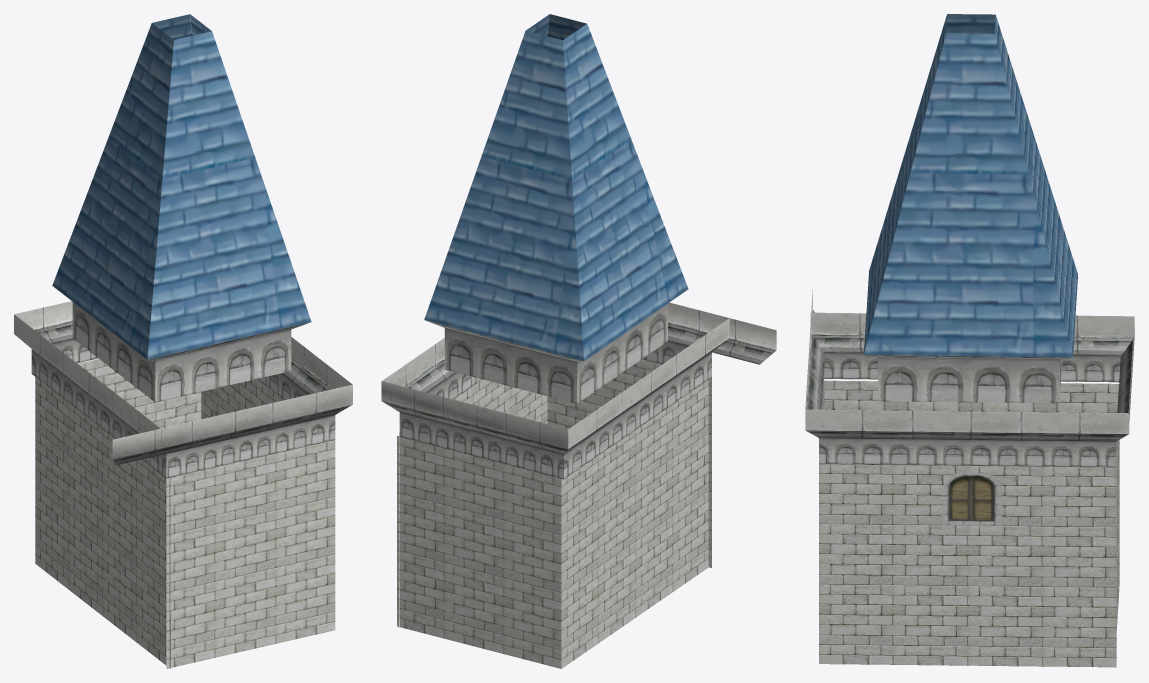
Rendered from HyruleCastle_MidTower.obj.
3 renders of one model, left to right at view 1: azimuth 30°, elevation 25°; view 2: azimuth 150°, elevation 25°; view 3: azimuth 270°, elevation 25°, orthographic. The views are drawn at different scales.
Visible parts, largest first — view 1: Tower_1_Base.001_naka_siro_01_45680.001, Tower_Cones.001_naka_yane_01_52300.001, Tower_1_Base.002_naka_siro_01_45680.001, Tower_Cones_2.001_naka_yane_01_52300.002, Tower_Walls.001_naka_siro_02_48080.001, Tower_Frames.002_naka_siro_02_48080, Tower_Walls.002_naka_siro_02_48080.001, Tower_Frames.001_naka_siro_02_48080; view 2: Tower_1_Base.002_naka_siro_01_45680.001, Tower_Cones_2.001_naka_yane_01_52300.002, Tower_Frames.002_naka_siro_02_48080, Tower_Frames.001_naka_siro_02_48080, Tower_Walls.001_naka_siro_02_48080.001, Tower_1_Base.001_naka_siro_01_45680.001, Tower_Cones.001_naka_yane_01_52300.001; view 3: Tower_1_Base.001_naka_siro_01_45680.001, Tower_Cones.001_naka_yane_01_52300.001, Tower_Walls.001_naka_siro_02_48080.001, Tower_Walls.002_naka_siro_02_48080.001, Tower_Frames.002_naka_siro_02_48080, Tower_Cones_2.001_naka_yane_01_52300.002, Tower_1_Base.002_naka_siro_01_45680.001, Tower_Window.001_naka_kabe_07_35980.001.
Part boxes in pixels (x1,y1,x2,y2): Tower_1_Base.001_naka_siro_01_45680.001: (166,379,335,668); Tower_Cones.001_naka_yane_01_52300.001: (147,14,311,359); Tower_1_Base.002_naka_siro_01_45680.001: (35,351,201,668); Tower_Cones_2.001_naka_yane_01_52300.002: (52,14,192,359); Tower_Walls.001_naka_siro_02_48080.001: (112,337,352,478); Tower_Frames.002_naka_siro_02_48080: (14,301,166,478); Tower_Walls.002_naka_siro_02_48080.001: (148,322,309,402); Tower_Frames.001_naka_siro_02_48080: (72,271,155,401); Tower_1_Base.002_naka_siro_01_45680.001: (397,380,708,668); Tower_Cones_2.001_naka_yane_01_52300.002: (424,24,688,361); Tower_Frames.002_naka_siro_02_48080: (381,318,729,479); Tower_Frames.001_naka_siro_02_48080: (426,303,667,403); Tower_Walls.001_naka_siro_02_48080.001: (381,302,776,436); Tower_1_Base.001_naka_siro_01_45680.001: (399,359,711,627); Tower_Cones.001_naka_yane_01_52300.001: (424,14,586,319); Tower_1_Base.001_naka_siro_01_45680.001: (819,383,1116,667); Tower_Cones.001_naka_yane_01_52300.001: (864,15,1072,357); Tower_Walls.001_naka_siro_02_48080.001: (805,289,1129,467); Tower_Walls.002_naka_siro_02_48080.001: (865,355,1071,403); Tower_Frames.002_naka_siro_02_48080: (810,312,1134,463); Tower_Cones_2.001_naka_yane_01_52300.002: (869,14,1077,354); Tower_1_Base.002_naka_siro_01_45680.001: (824,380,1119,667); Tower_Window.001_naka_kabe_07_35980.001: (941,471,1001,525).
Bounding box in the file's own units: 0.0736 × 0.1641 × 0.0818.
